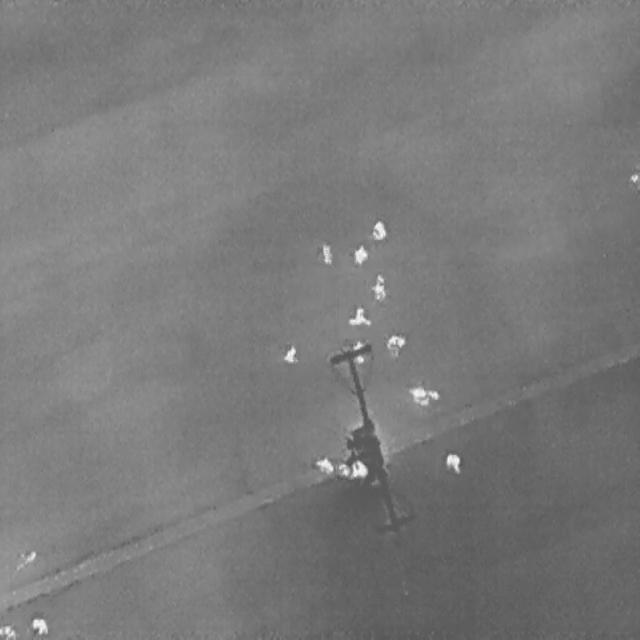Person: (405, 385, 438, 406), (345, 304, 371, 326), (311, 451, 334, 475), (385, 330, 405, 352), (372, 272, 386, 300), (349, 460, 366, 478), (0, 622, 18, 638), (282, 343, 297, 362), (446, 452, 460, 472), (320, 240, 331, 265), (372, 219, 385, 240), (352, 340, 364, 361), (29, 618, 47, 632), (353, 244, 365, 262), (628, 168, 638, 182)
